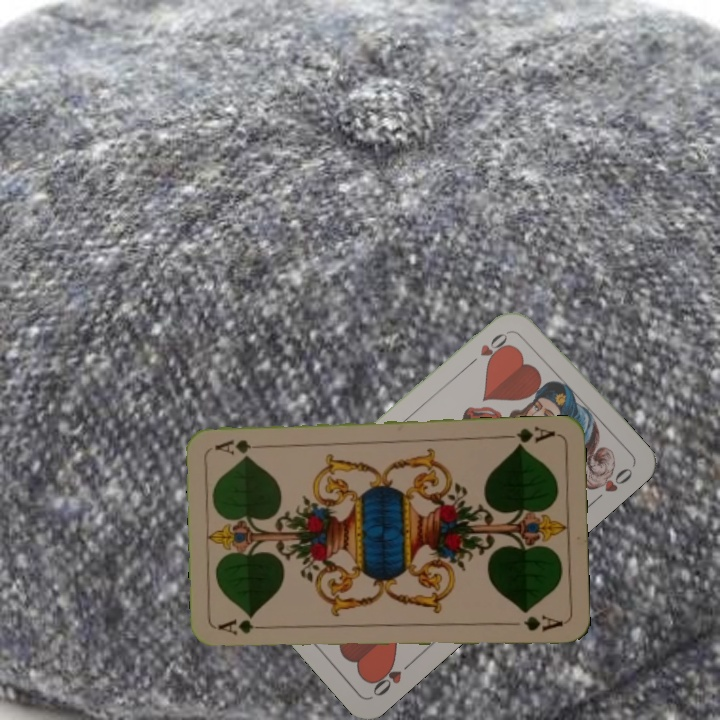GA: (500, 423, 557, 450), (215, 616, 274, 638)
HO: (366, 656, 417, 699), (464, 327, 513, 369)
